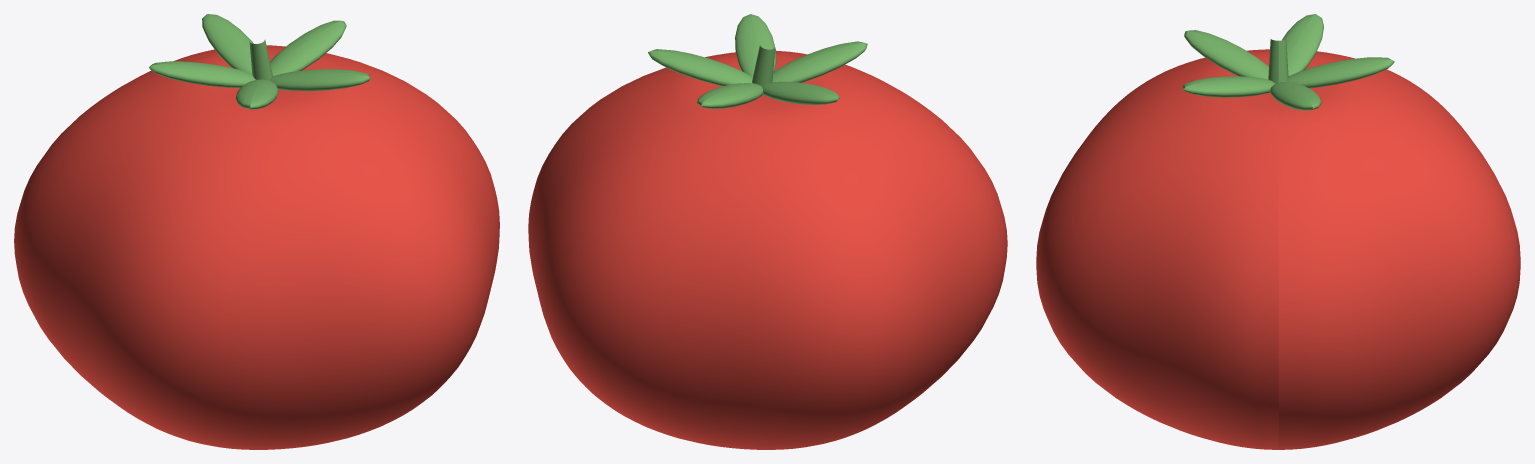
The model's file is tomate.glb.
3 renders of one model, left to right at view 1: azimuth 30°, elevation 25°; view 2: azimuth 150°, elevation 25°; view 3: azimuth 270°, elevation 25°, orthographic.
Parts seen in each view (by area): view 1: tomate; view 2: tomate; view 3: tomate.
Part boxes in pixels (box(x1,y1,x2,y2)): tomate: box(14, 14, 499, 449); tomate: box(528, 14, 1007, 449); tomate: box(1036, 14, 1520, 449).
Size of the model in its own units: 2 by 1.76 by 2.03.
